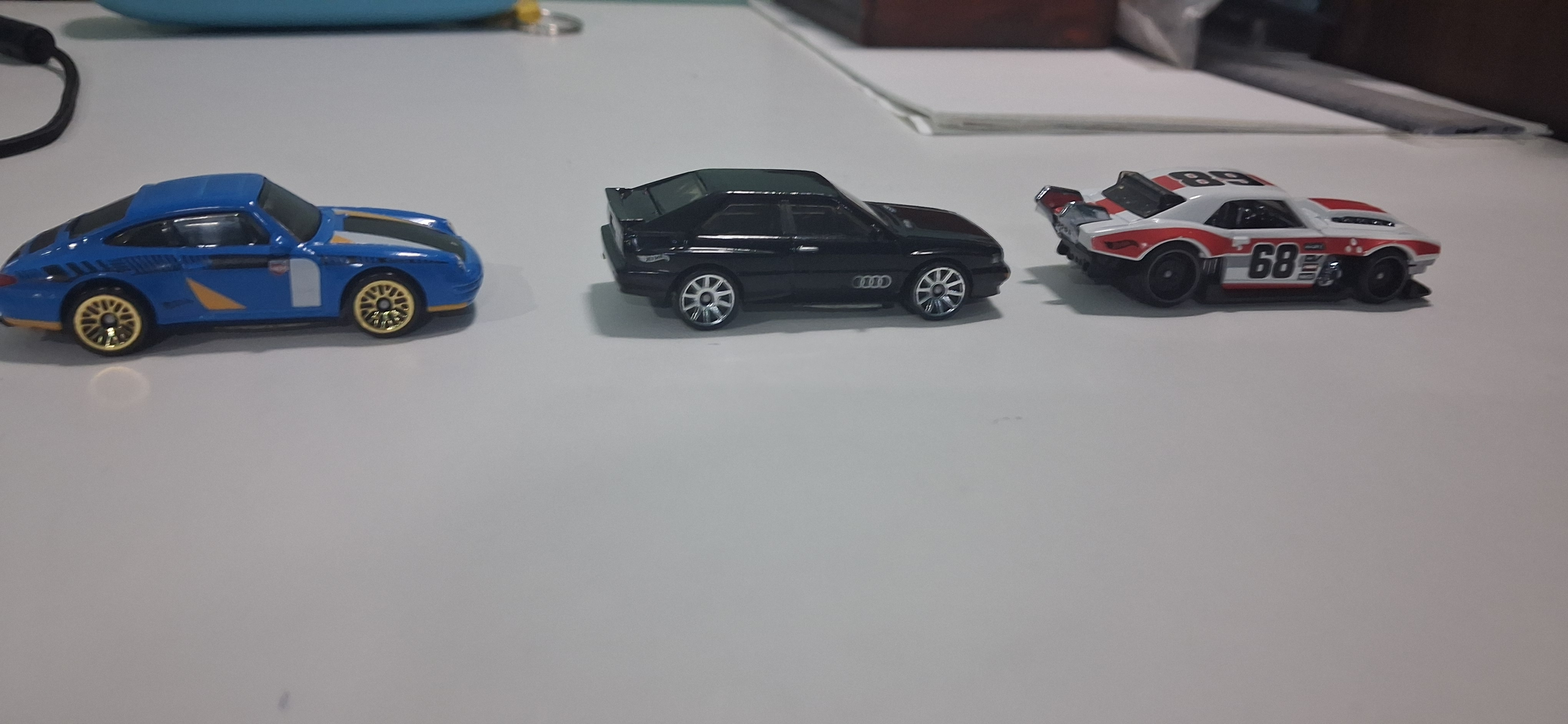Audi_Quattro: (572, 155, 1014, 355)
Camaro: (1026, 146, 1465, 342)
Porsche_Carrera: (0, 136, 506, 369)
